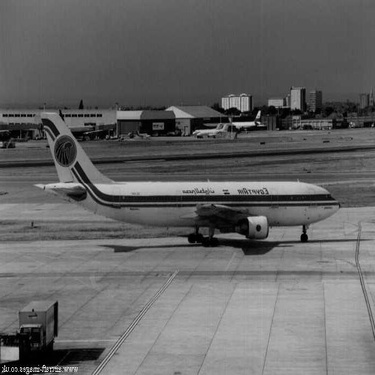airplane: (17, 89, 351, 259), (212, 98, 270, 142), (197, 121, 233, 147), (190, 119, 222, 143)
